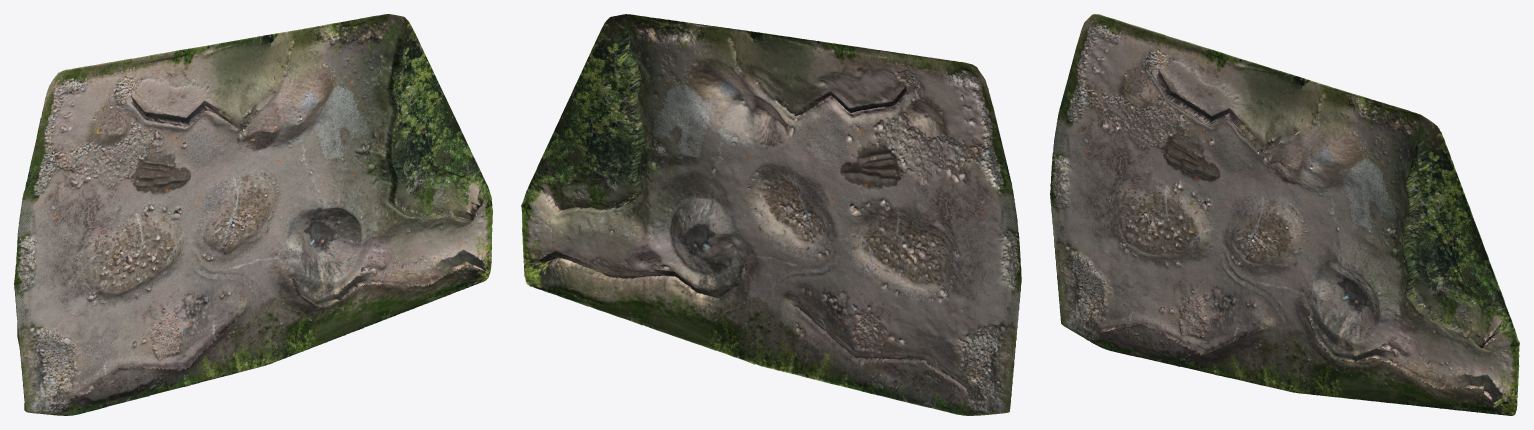
File: erc2025_marsyard.obj
3 renders of one model, left to right at view 1: azimuth 30°, elevation 25°; view 2: azimuth 150°, elevation 25°; view 3: azimuth 330°, elevation 25°, orthographic. The views are drawn at different scales.
Size of the model in its own units: 43.08 by 29.53 by 2.25.
Materials: 1 (1 with a texture image).
